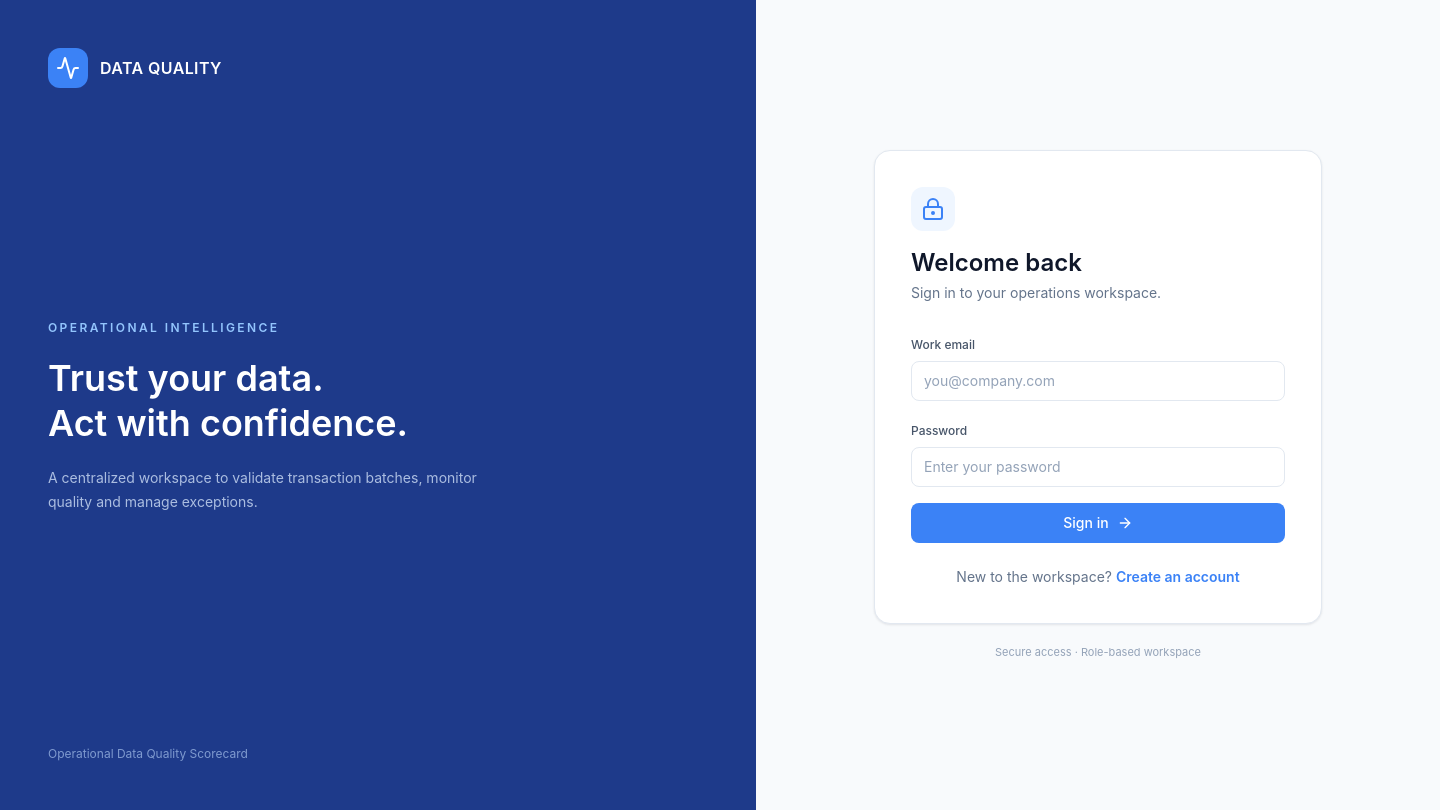
Test: Login page › displays an error when login fails
Type "wrong@example.com" into the field labelled "Work email" at x=1098, y=381, box [911,361,1285,401]
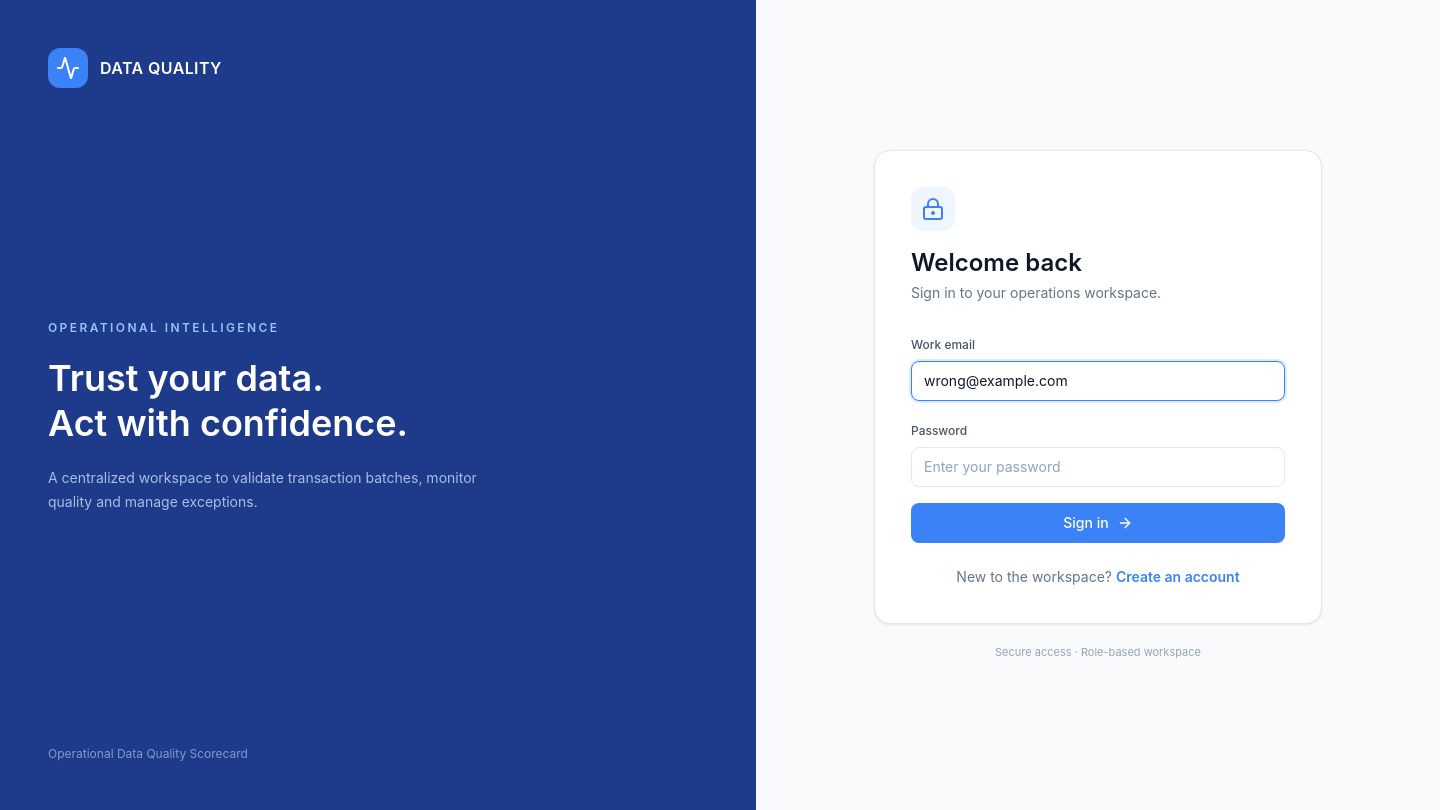
Type "wrongpassword" into the password field labelled "Password" at x=1098, y=467, box [911,447,1285,487]
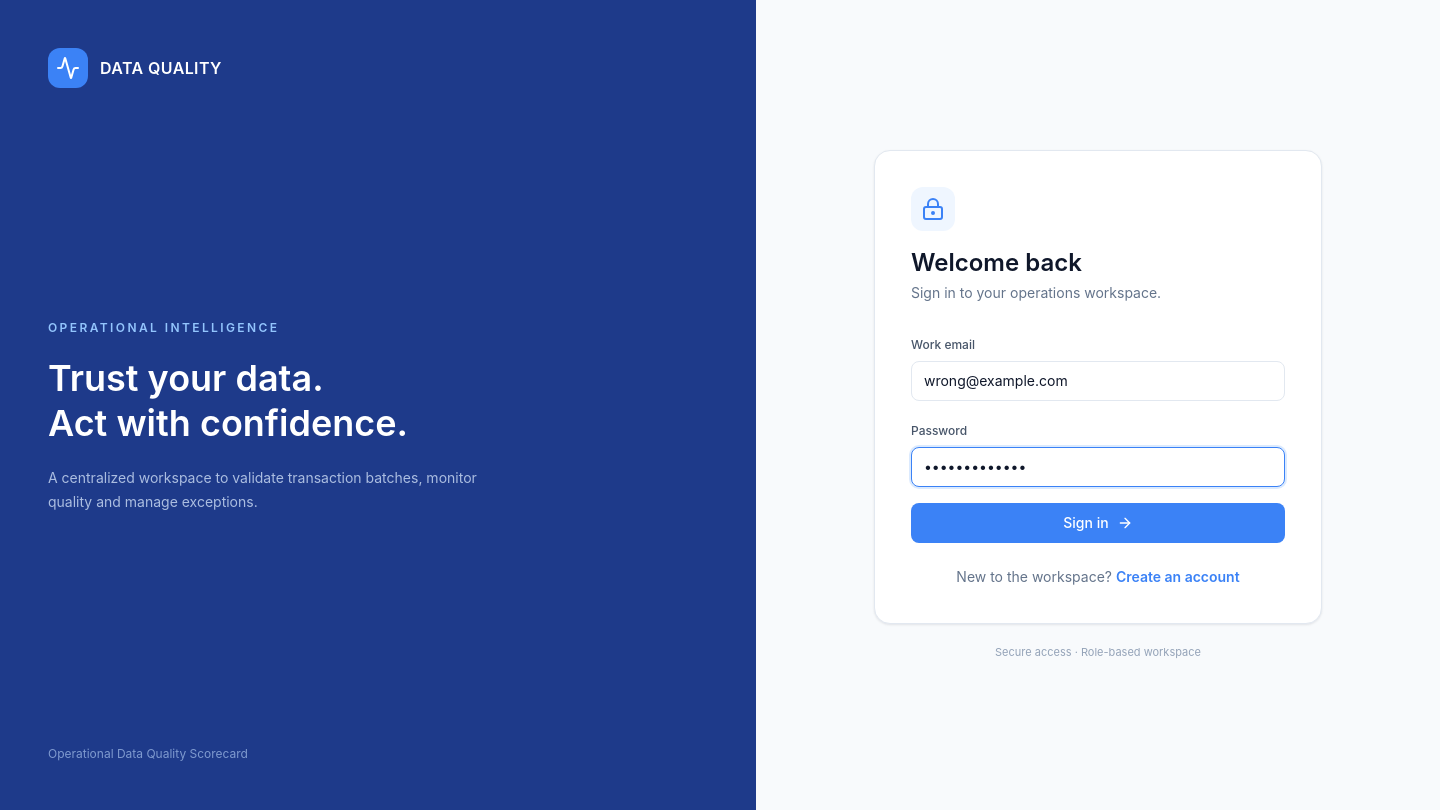
Click the button "Sign in" at x=1098, y=523, box [911,503,1285,543]
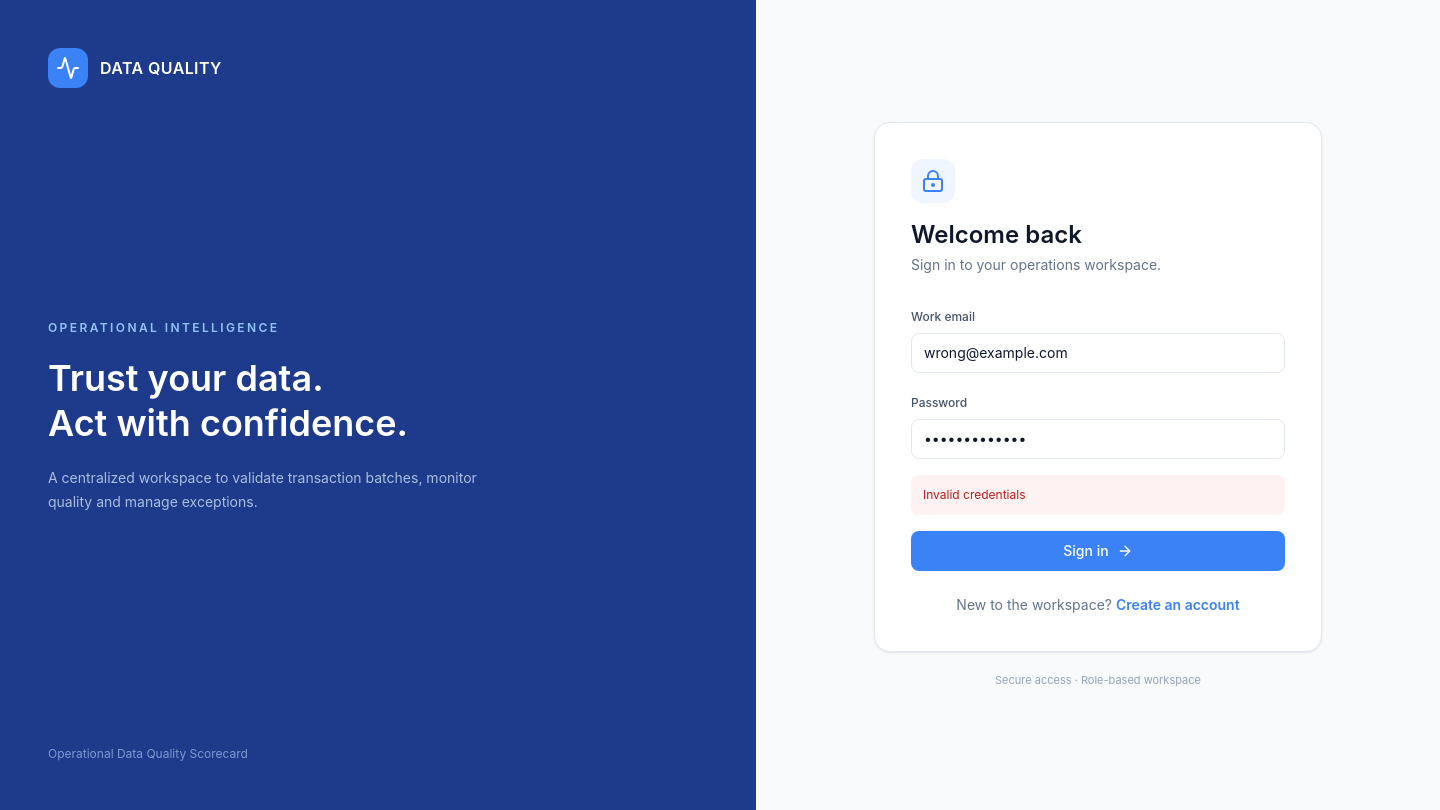
Result: the text "Invalid credentials" is shown at [911,475,1285,515]
